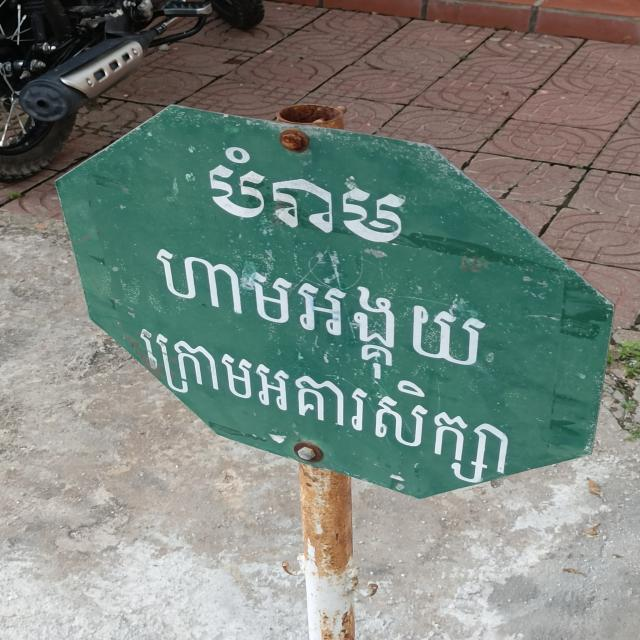Yolov11kh: (122, 310, 534, 498), (131, 242, 511, 398), (186, 135, 436, 262)
